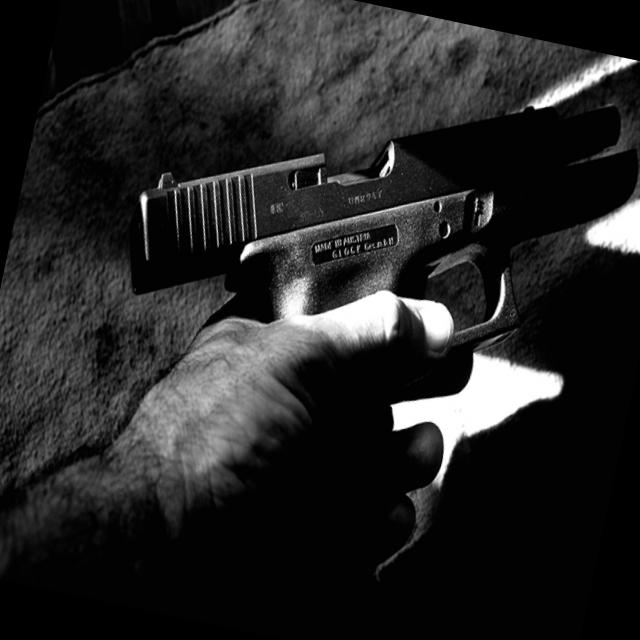handgun: (103, 0, 639, 421)
